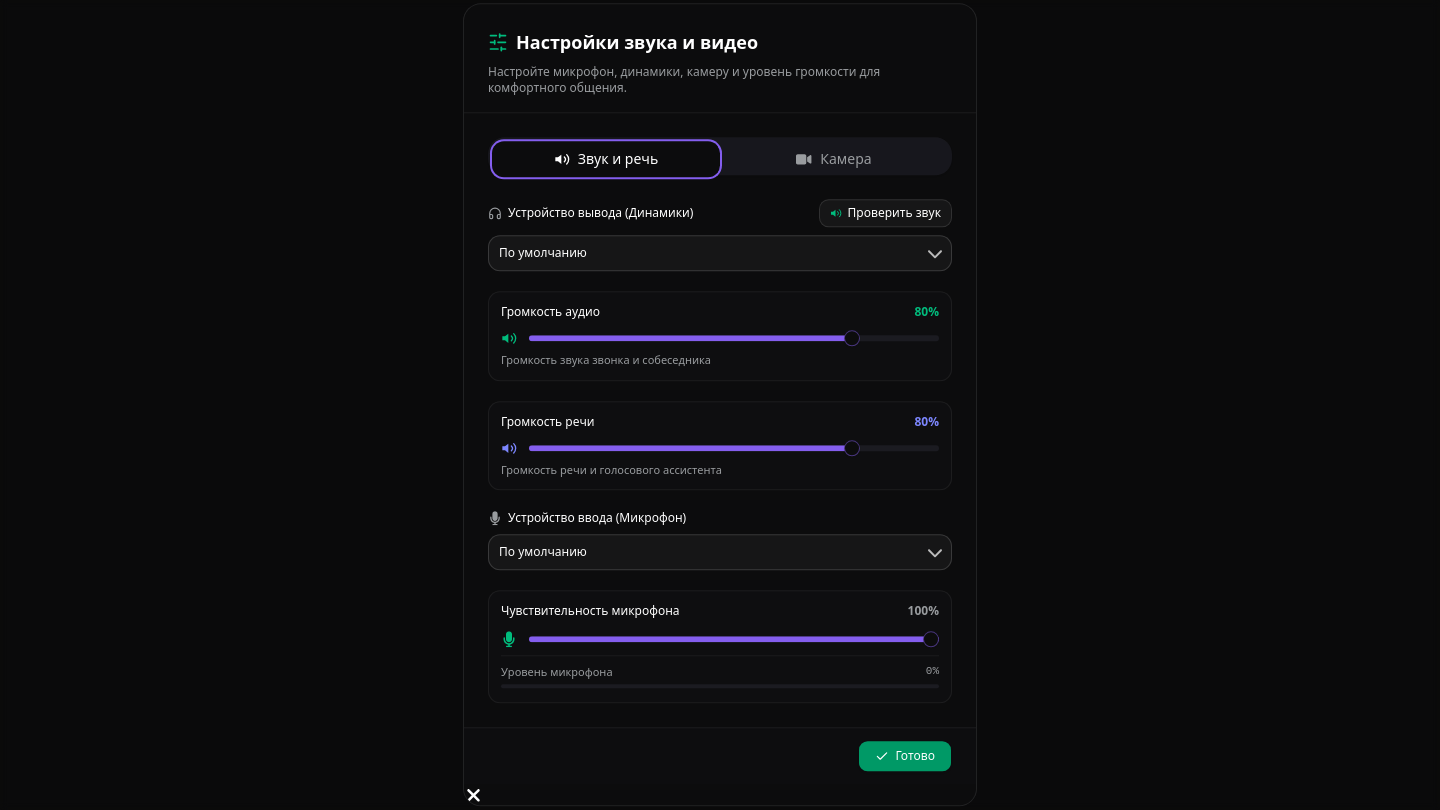
Test: MediaSettingsDialog › switches to camera tab and displays camera device selection
Click the tab "Камера": x=834, y=159 top-left (720, 141), bottom-right (948, 177)
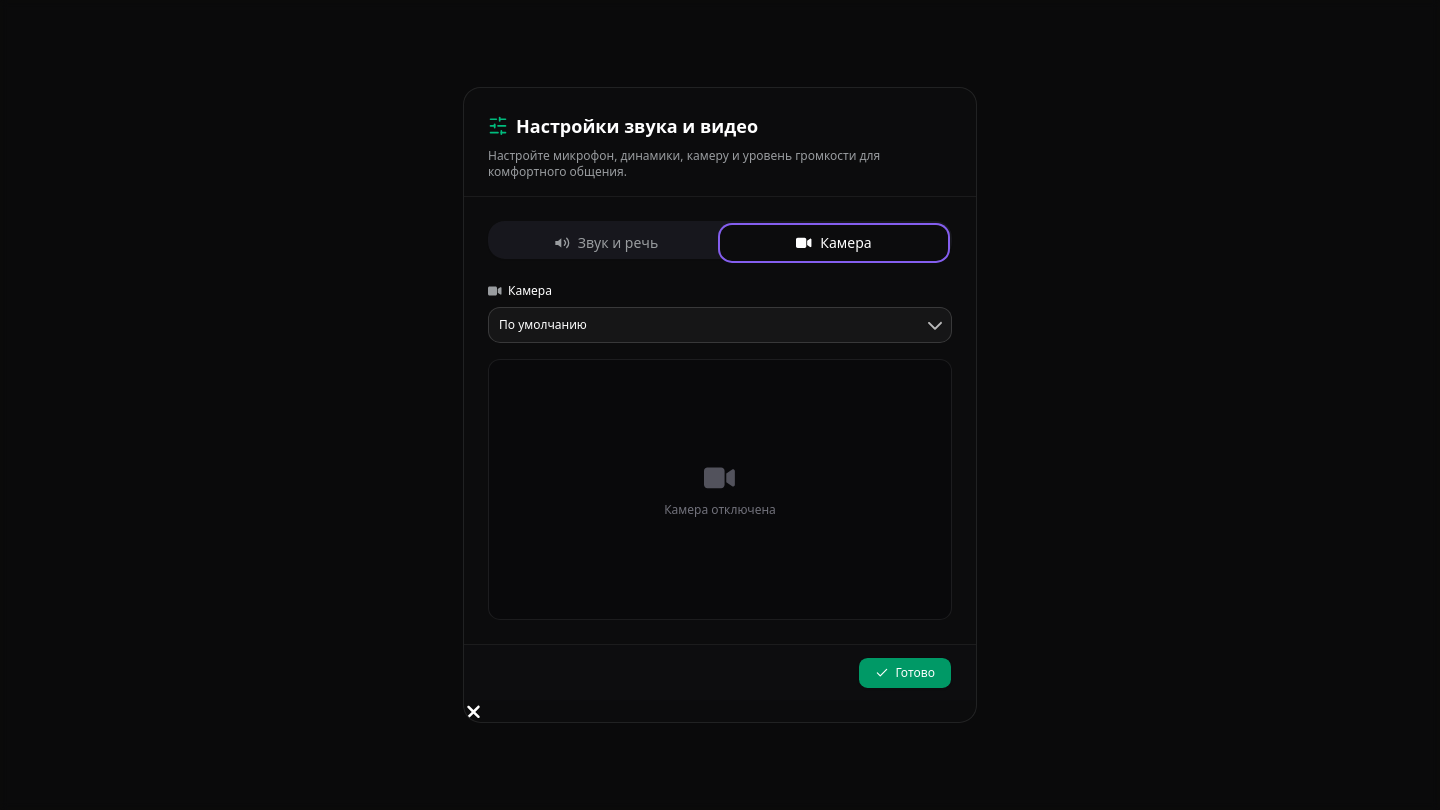
Expected: the text "Камера отключена" is shown, top-left (664, 501), bottom-right (776, 517)
